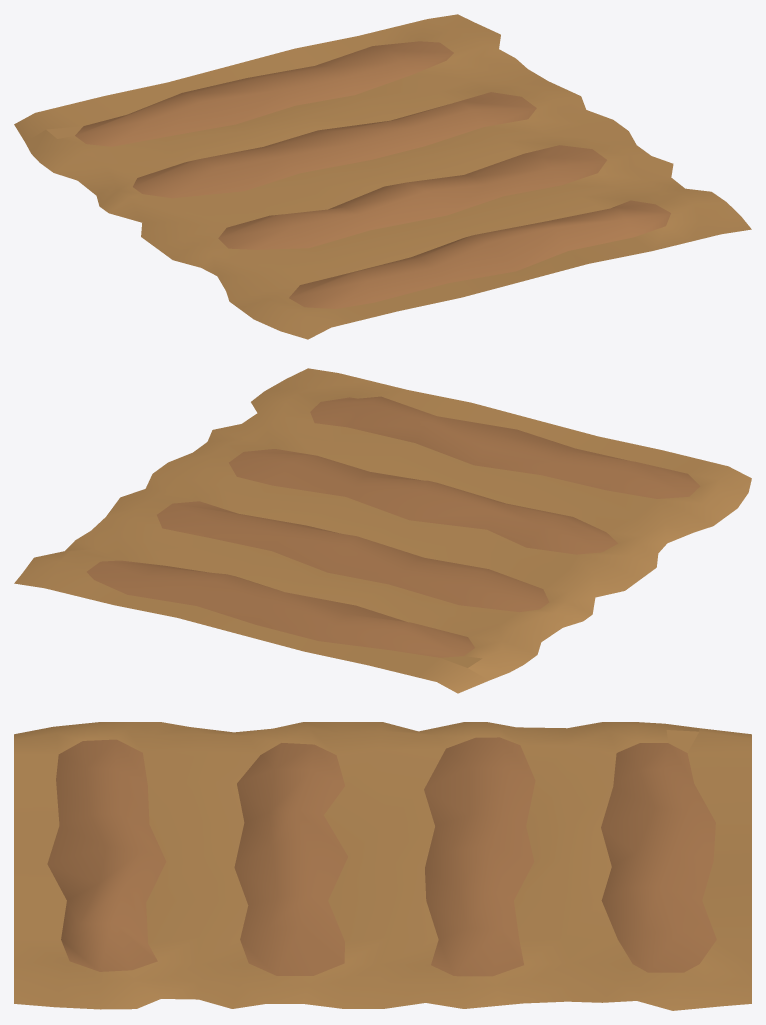
Rendered from Building_model_0_Fieldbackfrontedge001.fbx.
The picture shows the model from 3 angles, top to bottom: view 1: azimuth 30°, elevation 25°; view 2: azimuth 150°, elevation 25°; view 3: azimuth 270°, elevation 25°; orthographic projection. The views are drawn at different scales.
Visible parts, largest first — view 1: Building_model_0_Fieldbackfrontedge001; view 2: Building_model_0_Fieldbackfrontedge001; view 3: Building_model_0_Fieldbackfrontedge001.
Part boxes in pixels (x1,y1,x2,y2): Building_model_0_Fieldbackfrontedge001: (14, 14, 751, 339); Building_model_0_Fieldbackfrontedge001: (14, 368, 751, 693); Building_model_0_Fieldbackfrontedge001: (14, 722, 751, 1010).
Size of the model in its own units: 2.8 by 0.11 by 3.
